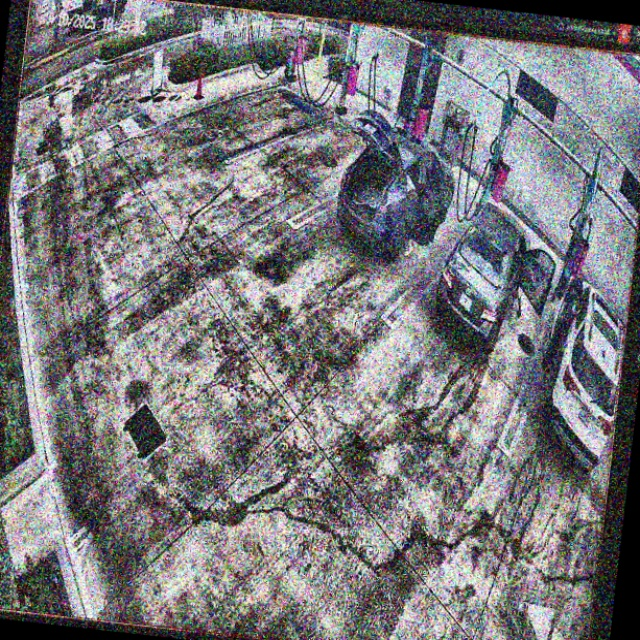Car: (432, 195, 560, 358), (333, 112, 463, 265)
